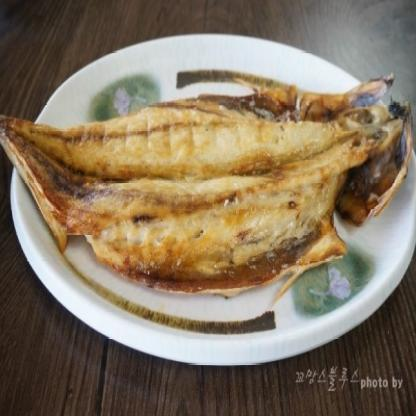Peixe: (0, 42, 416, 305)
